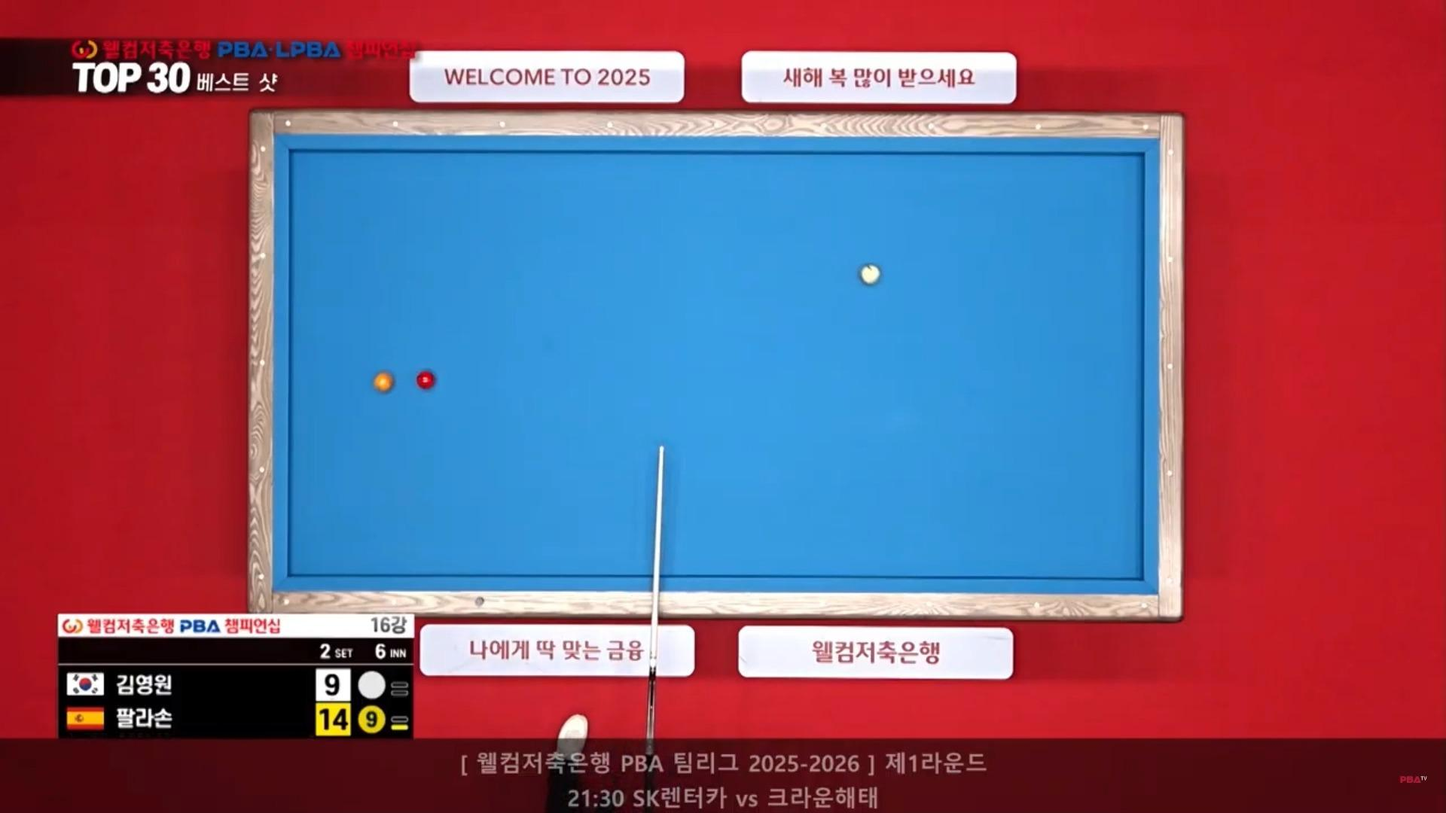Red: (414, 371, 437, 389)
White: (858, 264, 884, 284)
Yellow: (373, 373, 397, 394)
